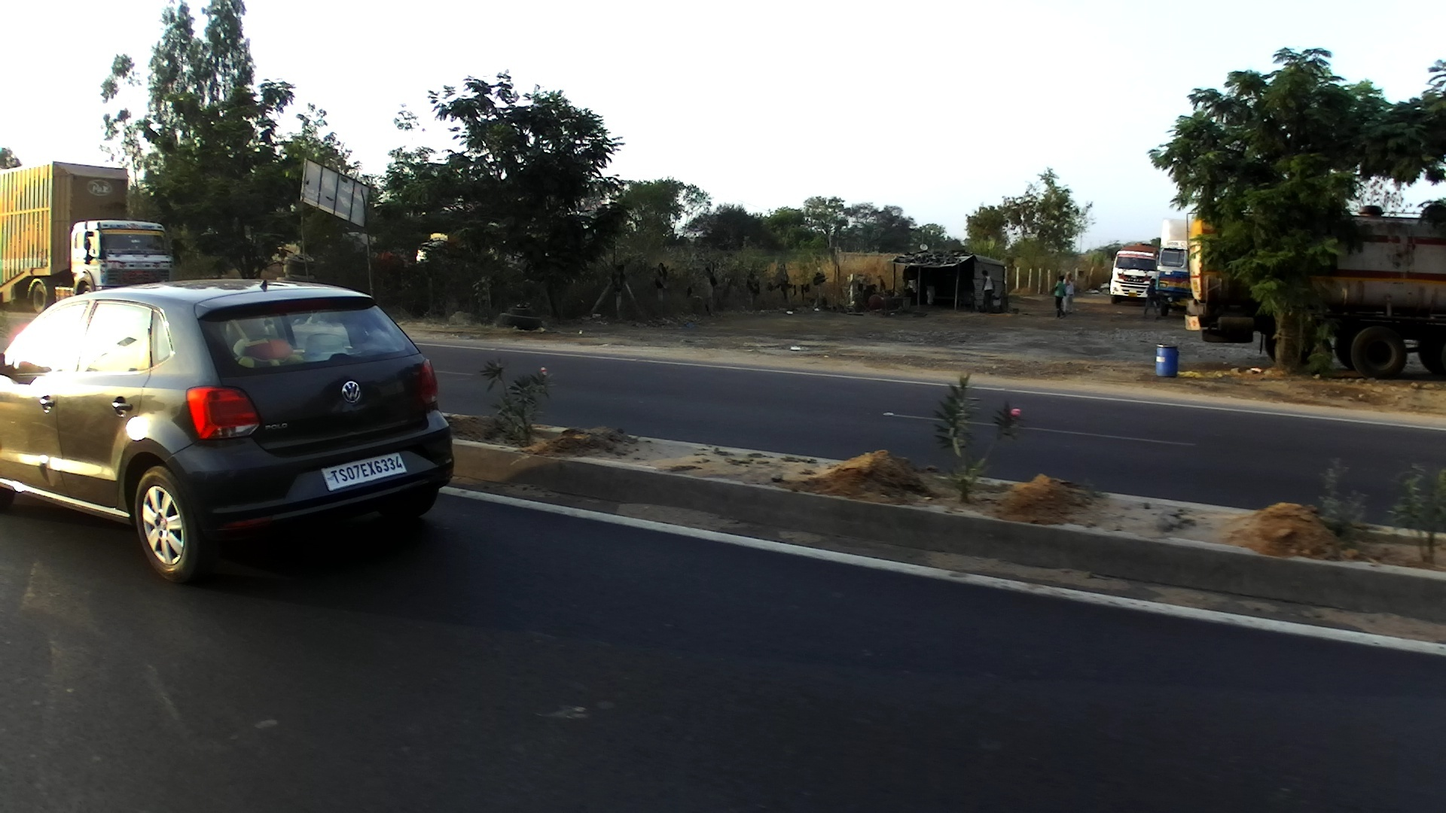car: (1, 277, 453, 586)
person: (1049, 274, 1069, 318), (1142, 276, 1162, 318), (978, 269, 997, 312), (1063, 273, 1078, 315)
truck: (1183, 199, 1446, 382), (1, 157, 171, 317), (1150, 218, 1190, 318), (1107, 243, 1160, 306)
